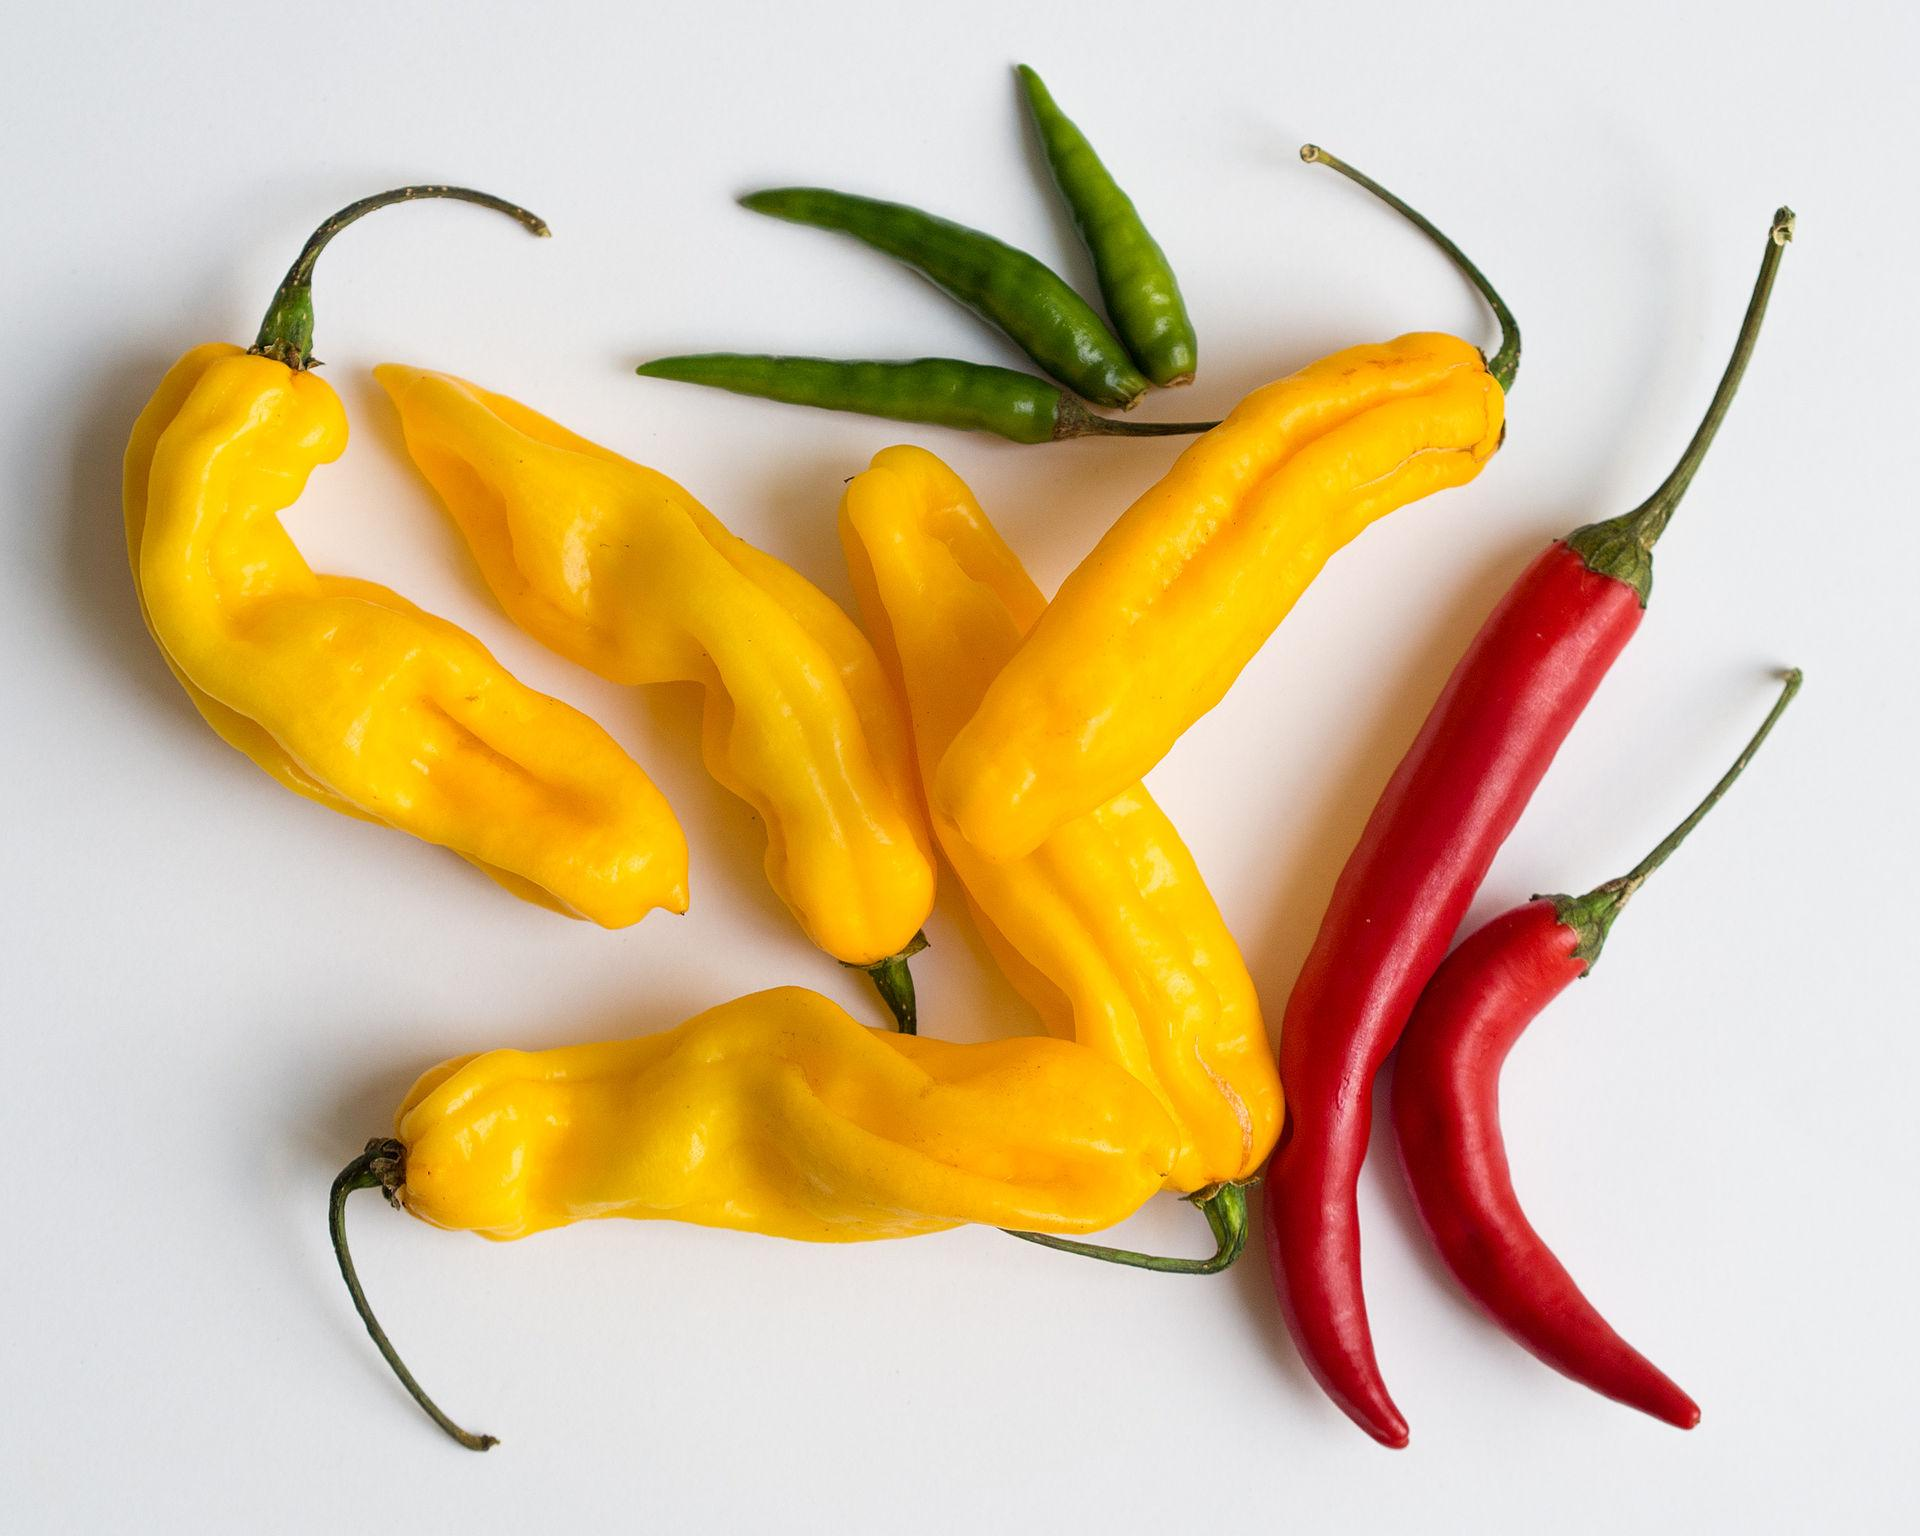chilli pepper: (326, 141, 1522, 1450), (1261, 200, 1797, 1448), (118, 179, 692, 933), (326, 982, 1238, 1451), (934, 140, 1522, 863), (369, 358, 940, 1032), (835, 438, 1285, 1204), (1387, 663, 1803, 1432), (634, 59, 1222, 443), (735, 181, 1151, 412), (1012, 59, 1199, 389), (632, 349, 1225, 443)
